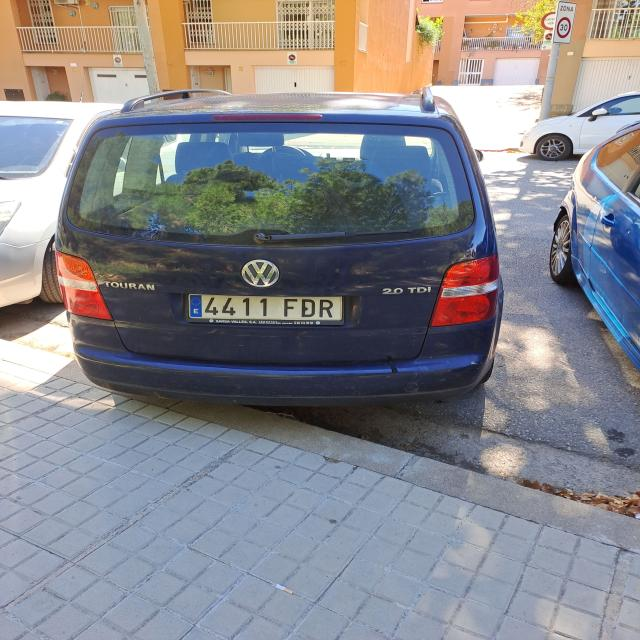license_plate-34Td: (188, 294, 344, 325)
